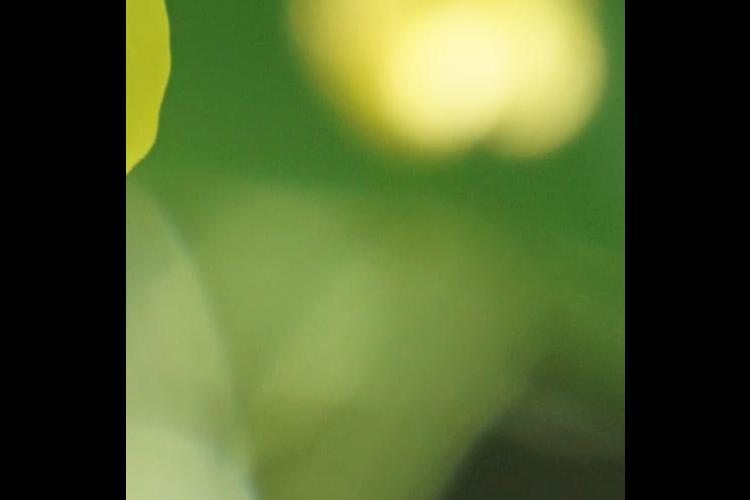yellow: (297, 1, 602, 153), (127, 1, 326, 226)
